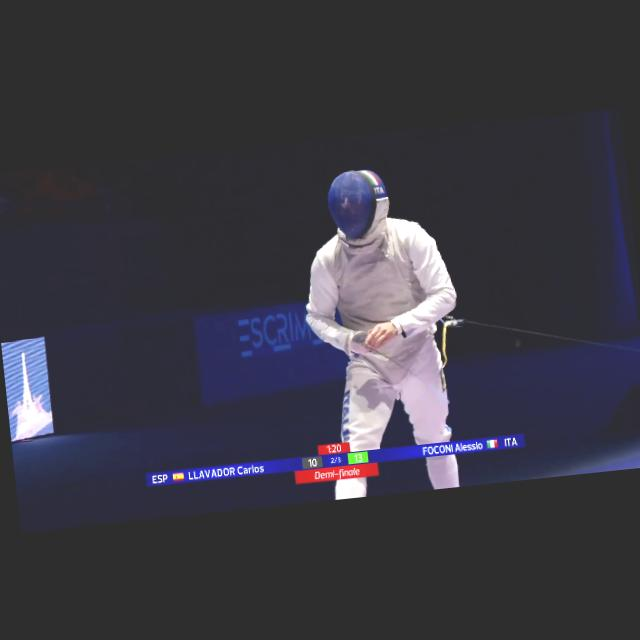blade: (341, 321, 456, 414)
